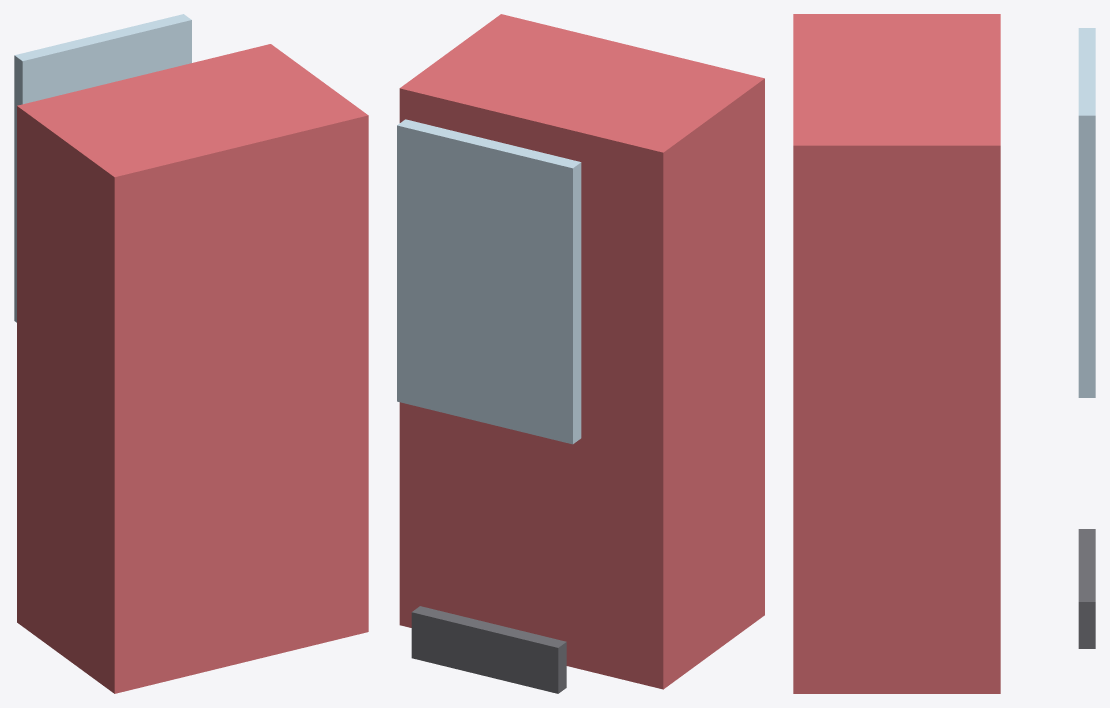
Rendered from pickup.vending-machine.v1.glb.
3 views of the same model, side by side, from view 1: azimuth 30°, elevation 25°; view 2: azimuth 150°, elevation 25°; view 3: azimuth 270°, elevation 25° (orthographic). The views are drawn at different scales.
Visible parts, largest first — view 1: pickup.vending-machine.v1_body, pickup.vending-machine.v1_window; view 2: pickup.vending-machine.v1_body, pickup.vending-machine.v1_window, pickup.vending-machine.v1_slot; view 3: pickup.vending-machine.v1_body, pickup.vending-machine.v1_window, pickup.vending-machine.v1_slot.
Boxes of the visible parts, box(x1,y1,x2,y2) form: pickup.vending-machine.v1_body: box(17, 44, 368, 693); pickup.vending-machine.v1_window: box(14, 14, 191, 322); pickup.vending-machine.v1_body: box(399, 14, 764, 689); pickup.vending-machine.v1_window: box(397, 119, 581, 444); pickup.vending-machine.v1_slot: box(411, 606, 566, 693); pickup.vending-machine.v1_body: box(793, 14, 1000, 693); pickup.vending-machine.v1_window: box(1078, 28, 1095, 397); pickup.vending-machine.v1_slot: box(1078, 529, 1095, 648).
Size of the model in its own units: 0.18 by 0.355 by 0.175.
